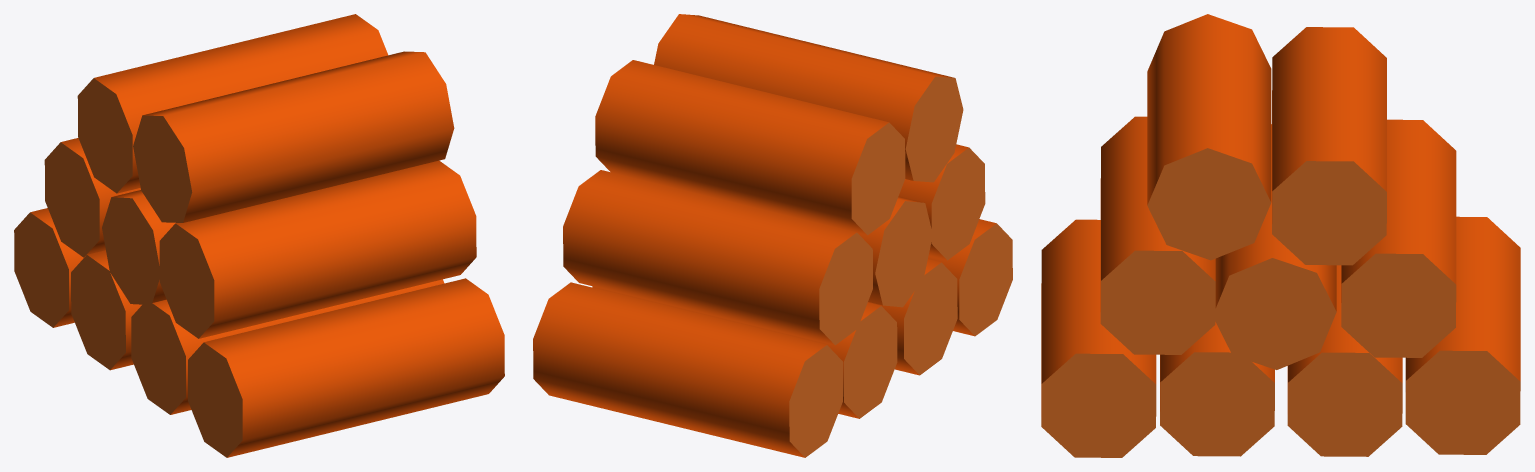
Rendered from Wood.fbx.
The picture shows the model from 3 angles, left to right: view 1: azimuth 30°, elevation 25°; view 2: azimuth 150°, elevation 25°; view 3: azimuth 270°, elevation 25°; orthographic projection. The views are drawn at different scales.
Parts seen in each view (by area): view 1: Wood; view 2: Wood; view 3: Wood.
Part boxes in pixels (x1,y1,x2,y2): Wood: (14, 14, 504, 457); Wood: (533, 14, 1012, 457); Wood: (1041, 14, 1520, 457).
Bounding box in the file's own units: 83.56 × 89.86 × 126.
